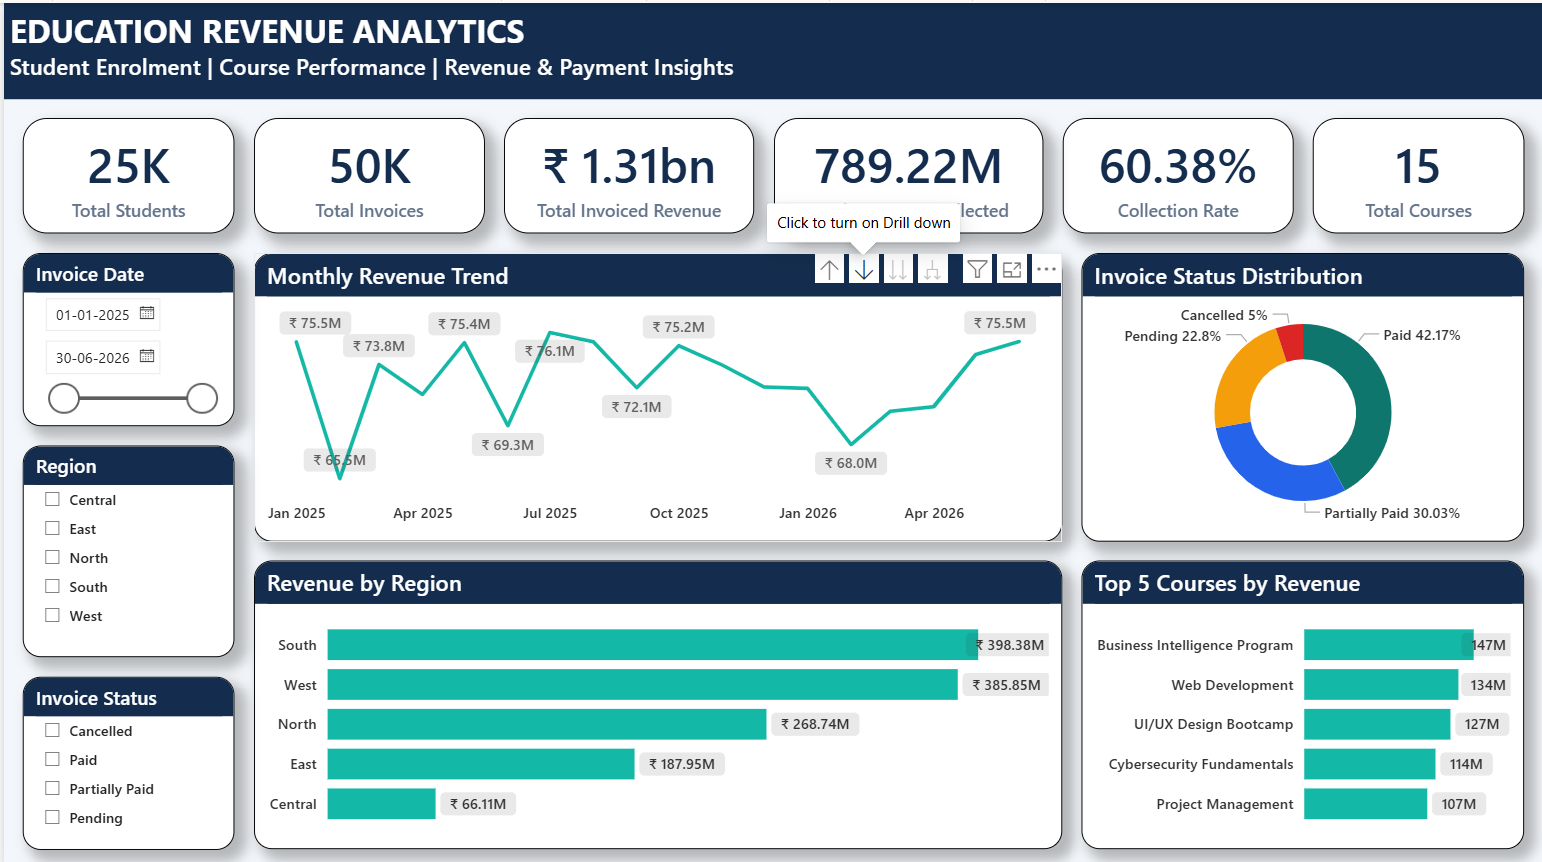

The dashboard page shown, as its layout file describes it:
{"tool":"powerbi","page":{"name":"Executive Overview","canvas":[1280,720],"ordinal":0},"visuals":[{"type":"textbox","box":[0,0,1280,80],"z":0},{"type":"card","fields":{"Values":["Colleges.Total Students"]},"box":[16,96,176,96],"z":1000},{"type":"card","fields":{"Values":["Colleges.Collection Rate"]},"box":[880,96,192,96],"z":2000},{"type":"card","fields":{"Values":["Colleges.Total Courses"]},"box":[1088,96,176,96],"z":3000},{"type":"card","fields":{"Values":["Colleges.Total Invoices"]},"box":[208,96,192,96],"z":4000},{"type":"card","fields":{"Values":["Colleges.Total Invoiced Revenue"]},"box":[416,96,208,96],"z":5000},{"type":"card","fields":{"Values":["Colleges.Total Payments Collected"]},"box":[640,96,224,96],"z":6000},{"type":"lineChart","title":"Monthly Revenue Trend","fields":{"Y":["Colleges.Total Invoiced Revenue"],"Category":["Invoices.Invoice_Date.Variation.Date Hierarchy.Year","Invoices.Invoice_Date.Variation.Date Hierarchy.Month"]},"box":[208,208,672,240],"z":7000},{"type":"clusteredBarChart","title":"Revenue by Region","fields":{"Category":["Locations.Region"],"Y":["Colleges.Total Invoiced Revenue"]},"box":[208,464,672,240],"z":8000},{"type":"donutChart","title":"Invoice Status Distribution","fields":{"Category":["Invoices.Invoice_Status"],"Y":["CountNonNull(Invoices.Invoice_ID)"]},"box":[896,208,368,240],"z":9000},{"type":"clusteredBarChart","title":"Top 5 Courses by Revenue","fields":{"Category":["Courses.Course_Name"],"Y":["Courses.Course Revenue"]},"box":[896,464,368,240],"z":10000},{"type":"slicer","title":"Invoice Date","fields":{"Values":["Invoices.Invoice_Date"]},"box":[16,208,176,144],"z":11000},{"type":"slicer","title":"Invoice Status","fields":{"Values":["Invoices.Invoice_Status"]},"box":[16,560,176,144],"z":12000},{"type":"slicer","title":"Region","fields":{"Values":["Locations.Region"]},"box":[16,368,176,176],"z":13000}]}

Visuals, with their boxes in screenshot pixels (x1, y1, x2, y2), scaled from the page's 1280x720 canvas onto the 1542x862 screenshot:
textbox: <bbox>0, 0, 1541, 96</bbox>
card - Colleges.Total Students: <bbox>19, 115, 231, 230</bbox>
card - Colleges.Collection Rate: <bbox>1060, 115, 1291, 230</bbox>
card - Colleges.Total Courses: <bbox>1311, 115, 1523, 230</bbox>
card - Colleges.Total Invoices: <bbox>251, 115, 482, 230</bbox>
card - Colleges.Total Invoiced Revenue: <bbox>501, 115, 752, 230</bbox>
card - Colleges.Total Payments Collected: <bbox>771, 115, 1041, 230</bbox>
"Monthly Revenue Trend" lineChart: <bbox>251, 249, 1060, 536</bbox>
"Revenue by Region" clusteredBarChart: <bbox>251, 556, 1060, 843</bbox>
"Invoice Status Distribution" donutChart: <bbox>1079, 249, 1523, 536</bbox>
"Top 5 Courses by Revenue" clusteredBarChart: <bbox>1079, 556, 1523, 843</bbox>
"Invoice Date" slicer: <bbox>19, 249, 231, 421</bbox>
"Invoice Status" slicer: <bbox>19, 670, 231, 843</bbox>
"Region" slicer: <bbox>19, 441, 231, 651</bbox>
